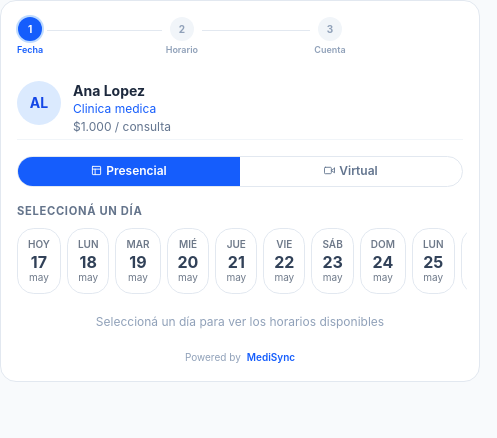
Scenario: WidgetPage timezone behavior › loads slots with the selected Argentina clinic date key
Click the button "Hoy 17 may". click: [39, 261]
box: [17,228,61,294]
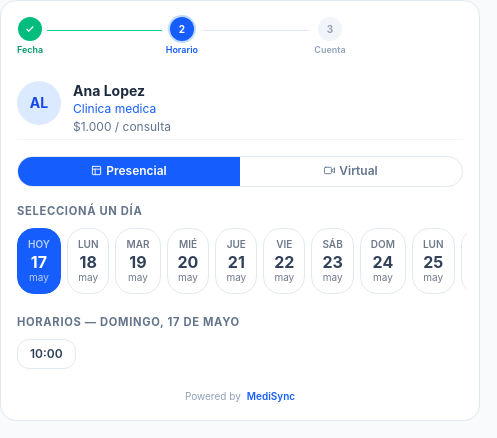
expect the button "10:00" is shown: met, box [17,339,76,369]
expect the text "Horarios — domingo, 17 de mayo" is shown: met, box [17,315,240,329]
